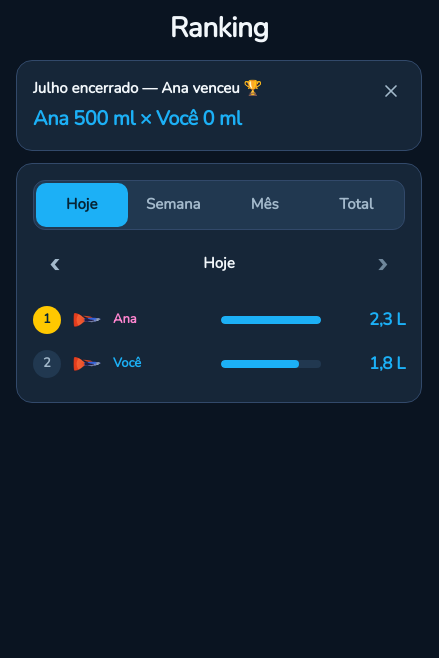
Test: Ranking › steps back to last week
The image size is (439, 658).
Click the button "Semana".
click(173, 204)  # box [128,182,219,226]
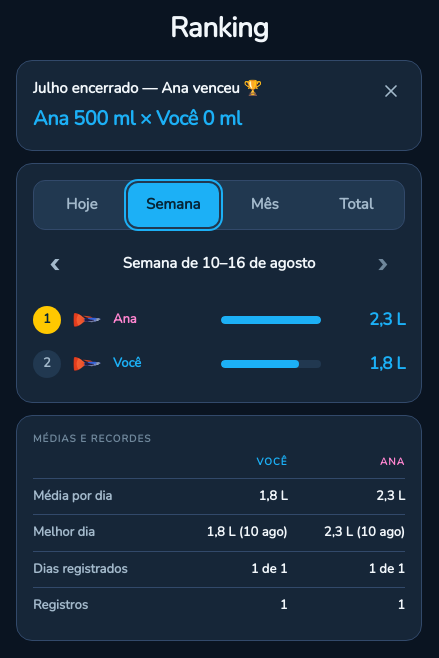
Click the button named "Período anterior".
click(55, 264)  # box [33,242,77,286]
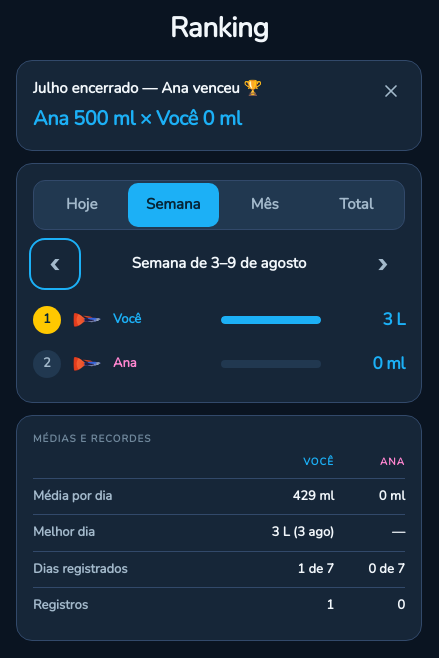
expect the list item "1 Você 3 L" is shown: met, box [33,298,405,342]
expect the text "Semana de 3–9 de agosto" is shown: met, box [132,252,306,275]
